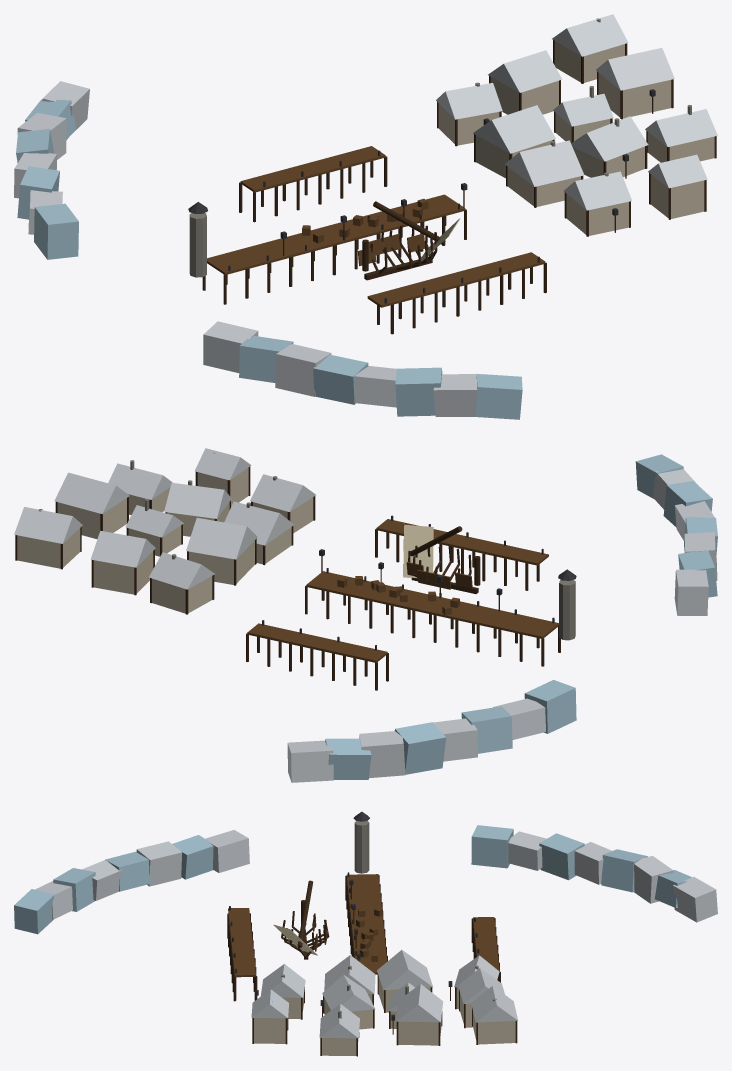
The model's file is frost_harbour.glb.
3 renders of one model, top to bottom at view 1: azimuth 30°, elevation 25°; view 2: azimuth 150°, elevation 25°; view 3: azimuth 270°, elevation 25°, orthographic. The views are drawn at different scales.
Visible parts, largest first — view 1: geometry_0; view 2: geometry_0; view 3: geometry_0.
Boxes of the visible parts, bbox=[...] form: geometry_0: bbox=[14, 14, 717, 419]; geometry_0: bbox=[14, 448, 717, 782]; geometry_0: bbox=[14, 811, 717, 1056].
Bounding box in the file's own units: 103 × 18.21 × 133.
